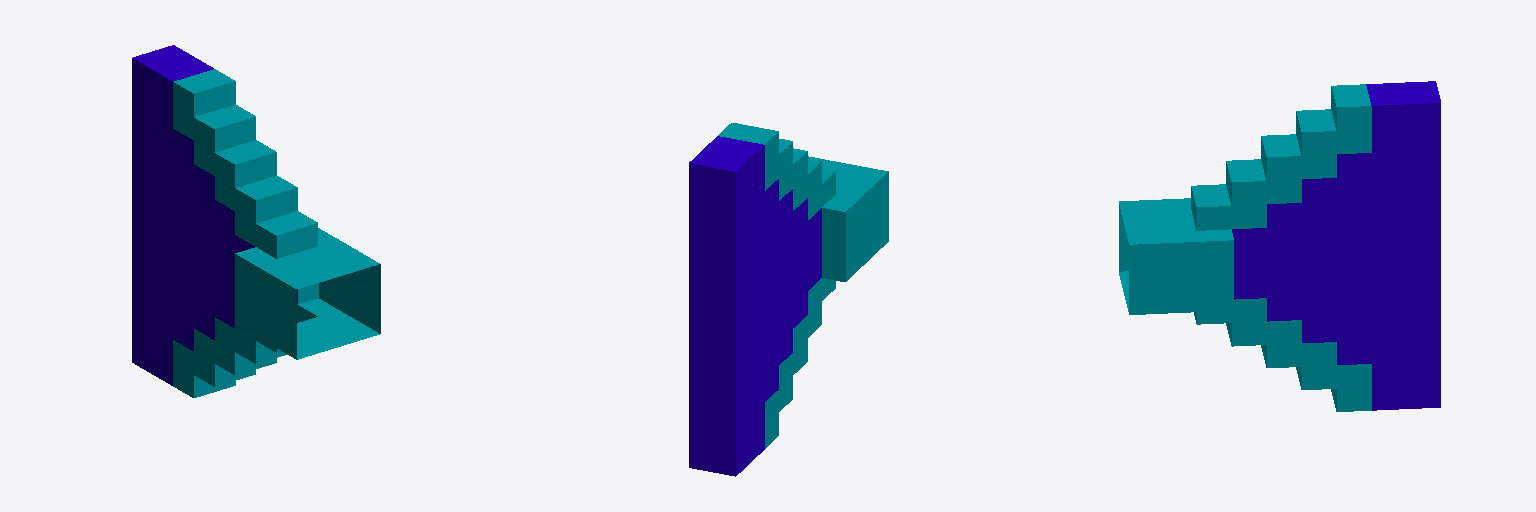
3 renders of one model, left to right at view 1: azimuth 30°, elevation 25°; view 2: azimuth 150°, elevation 25°; view 3: azimuth 270°, elevation 25°, orthographic.
Parts seen in each view (by area): view 1: Object001; view 2: Object001; view 3: Object001.
Boxes of the visible parts, x1=… form: Object001: x1=132, y1=45, x2=380, y2=397; Object001: x1=689, y1=123, x2=888, y2=476; Object001: x1=1119, y1=81, x2=1440, y2=411.
Bounding box in the file's own units: 2.88 × 8.51 × 8.17.
1 materials, 1 textured.